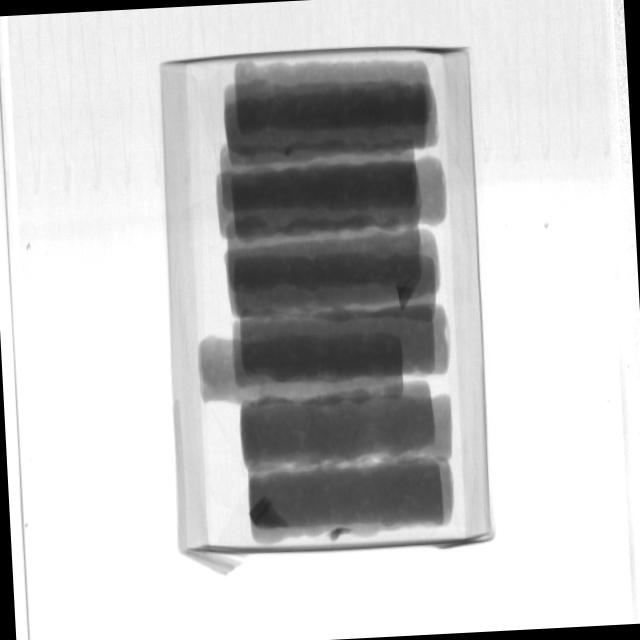ym: (250, 497, 290, 535), (397, 285, 417, 310), (326, 526, 355, 543)
